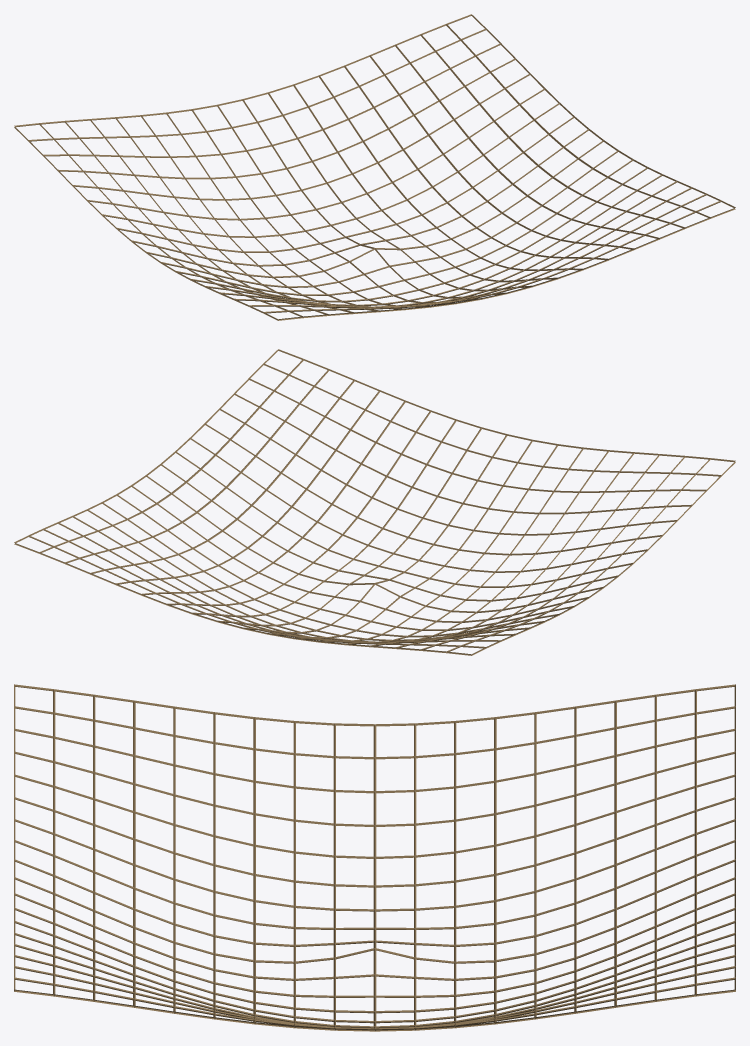
The model's file is Fishnet.fbx.
The picture shows the model from 3 angles, top to bottom: view 1: azimuth 30°, elevation 25°; view 2: azimuth 150°, elevation 25°; view 3: azimuth 270°, elevation 25°; orthographic projection. The views are drawn at different scales.
Visible parts, largest first — view 1: Plane; view 2: Plane; view 3: Plane.
Part boxes in pixels (box(x1,y1,x2,y2)): Plane: box(14, 14, 735, 320); Plane: box(14, 349, 735, 655); Plane: box(14, 684, 735, 1031).
Bounding box in the file's own units: 1396 × 271 × 1396.
